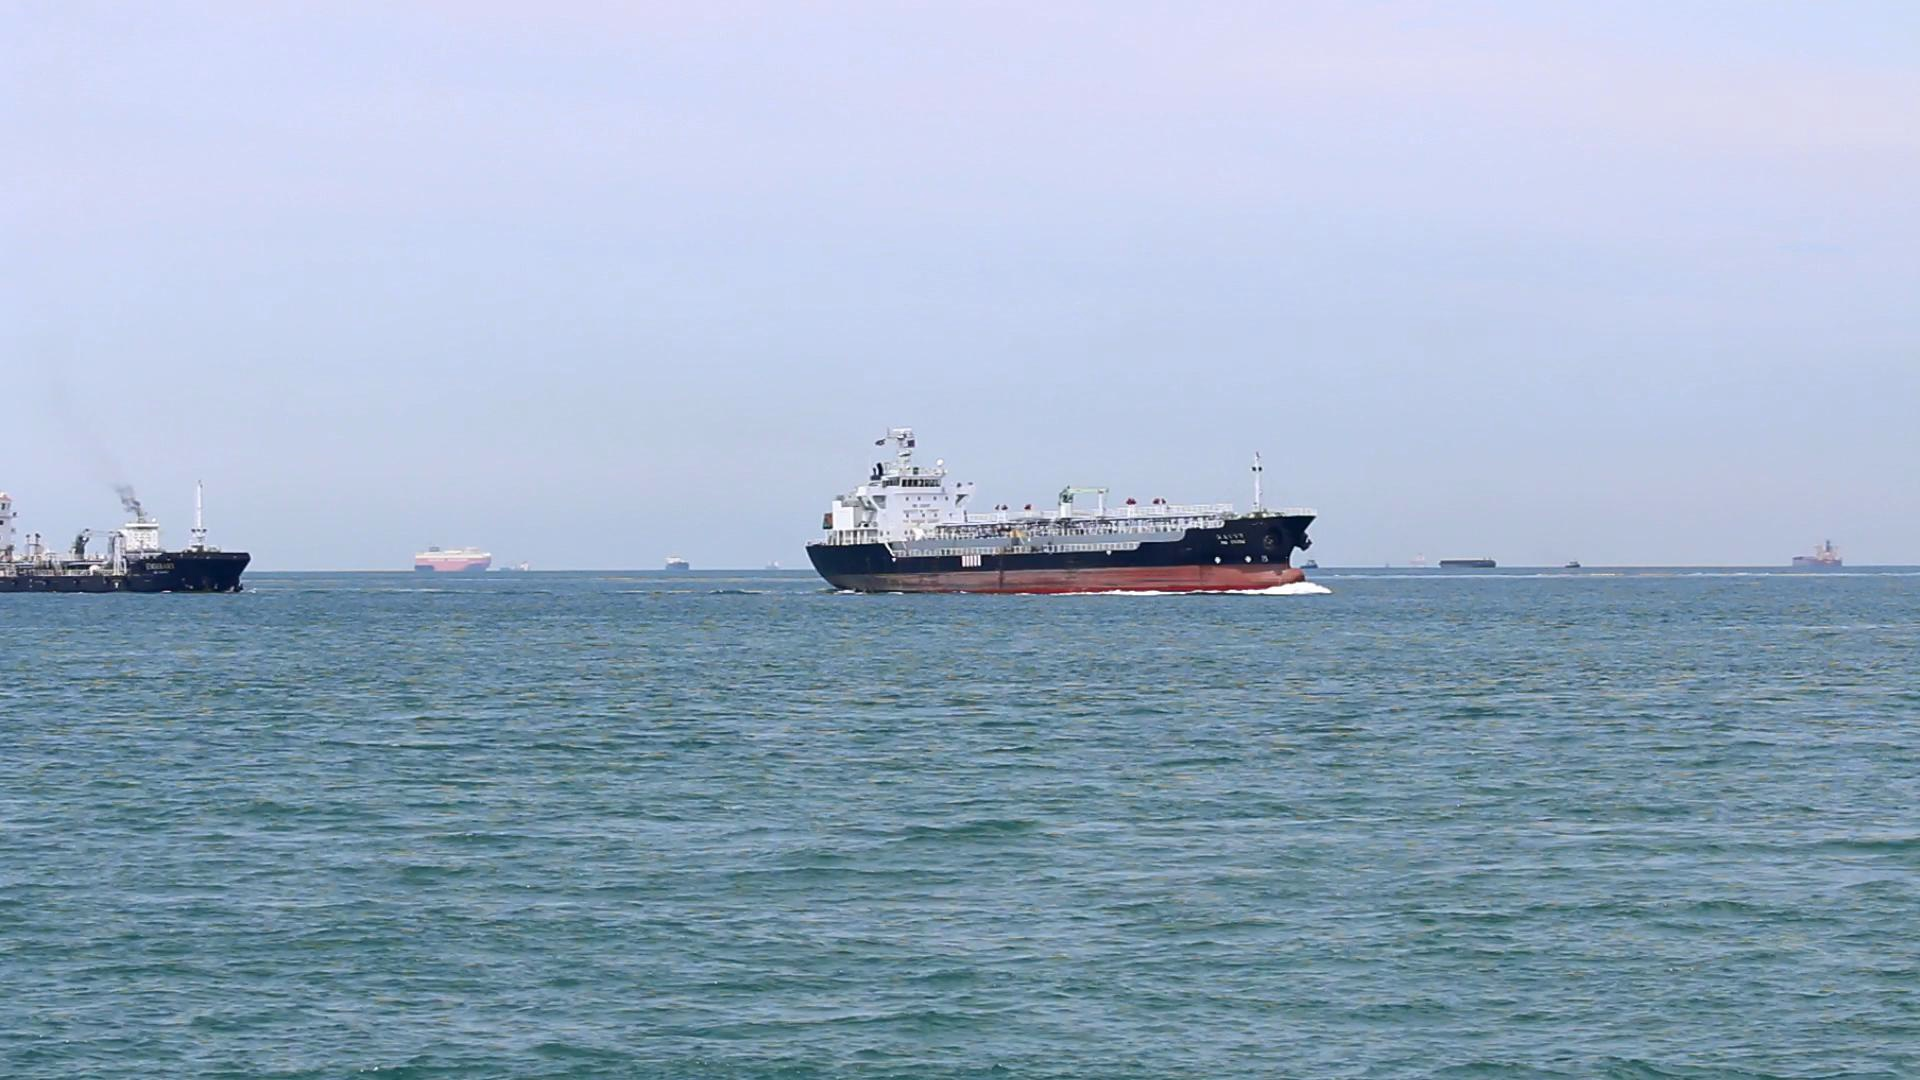Container Ship: (803, 431, 1321, 597), (1, 475, 256, 596), (409, 543, 496, 575)
